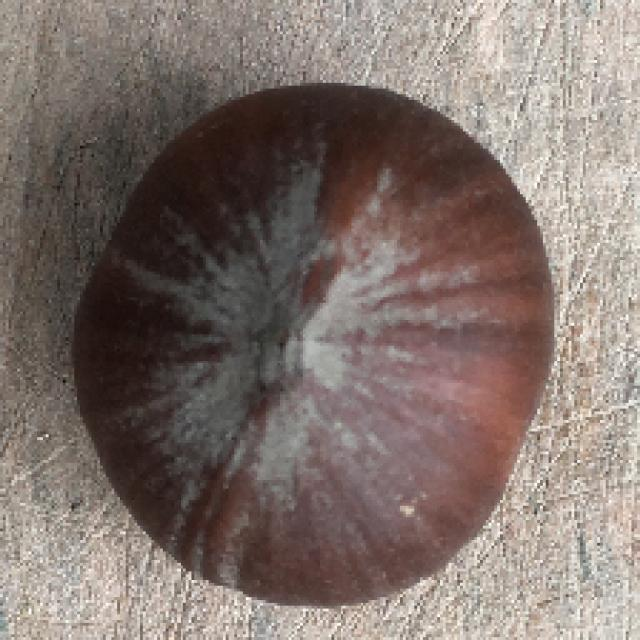damagedHazelnut: (66, 80, 560, 604)
